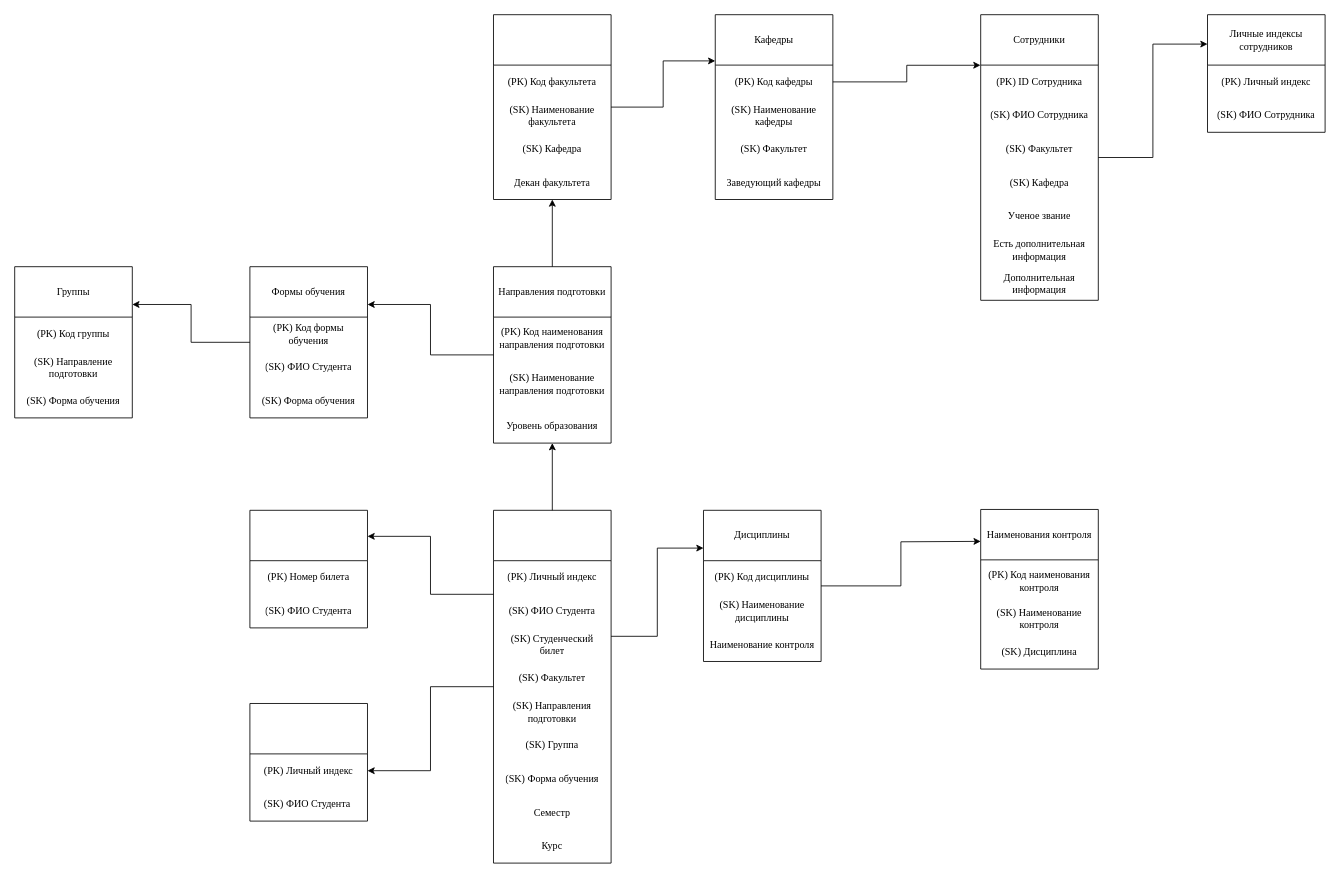
The diagram is 1340 pixels wide and 878 high, and some of its shapes have lost their labels. Each missing label, with the box of its shape:
Личные индексы студентов: (249, 703, 368, 821)
Студенты: (493, 509, 611, 863)
Студенческие билеты: (249, 509, 368, 628)
Факультеты: (493, 14, 611, 200)
